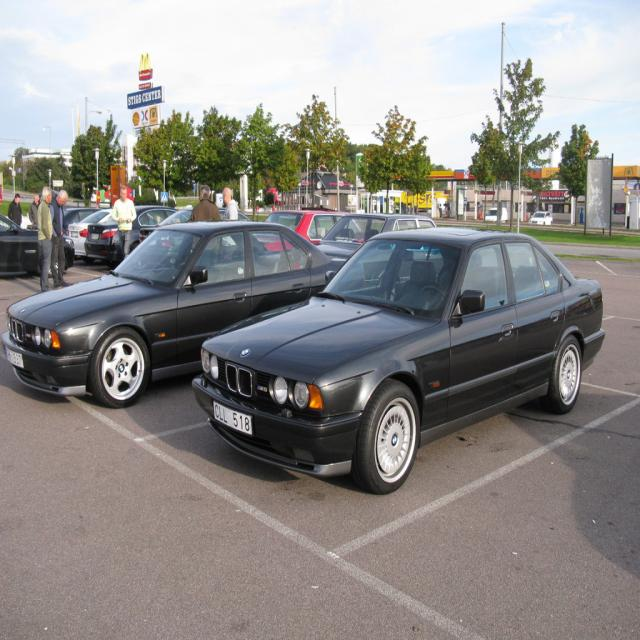car: (189, 224, 599, 491), (0, 209, 346, 408), (252, 206, 370, 252), (90, 202, 168, 268), (0, 213, 74, 280)
